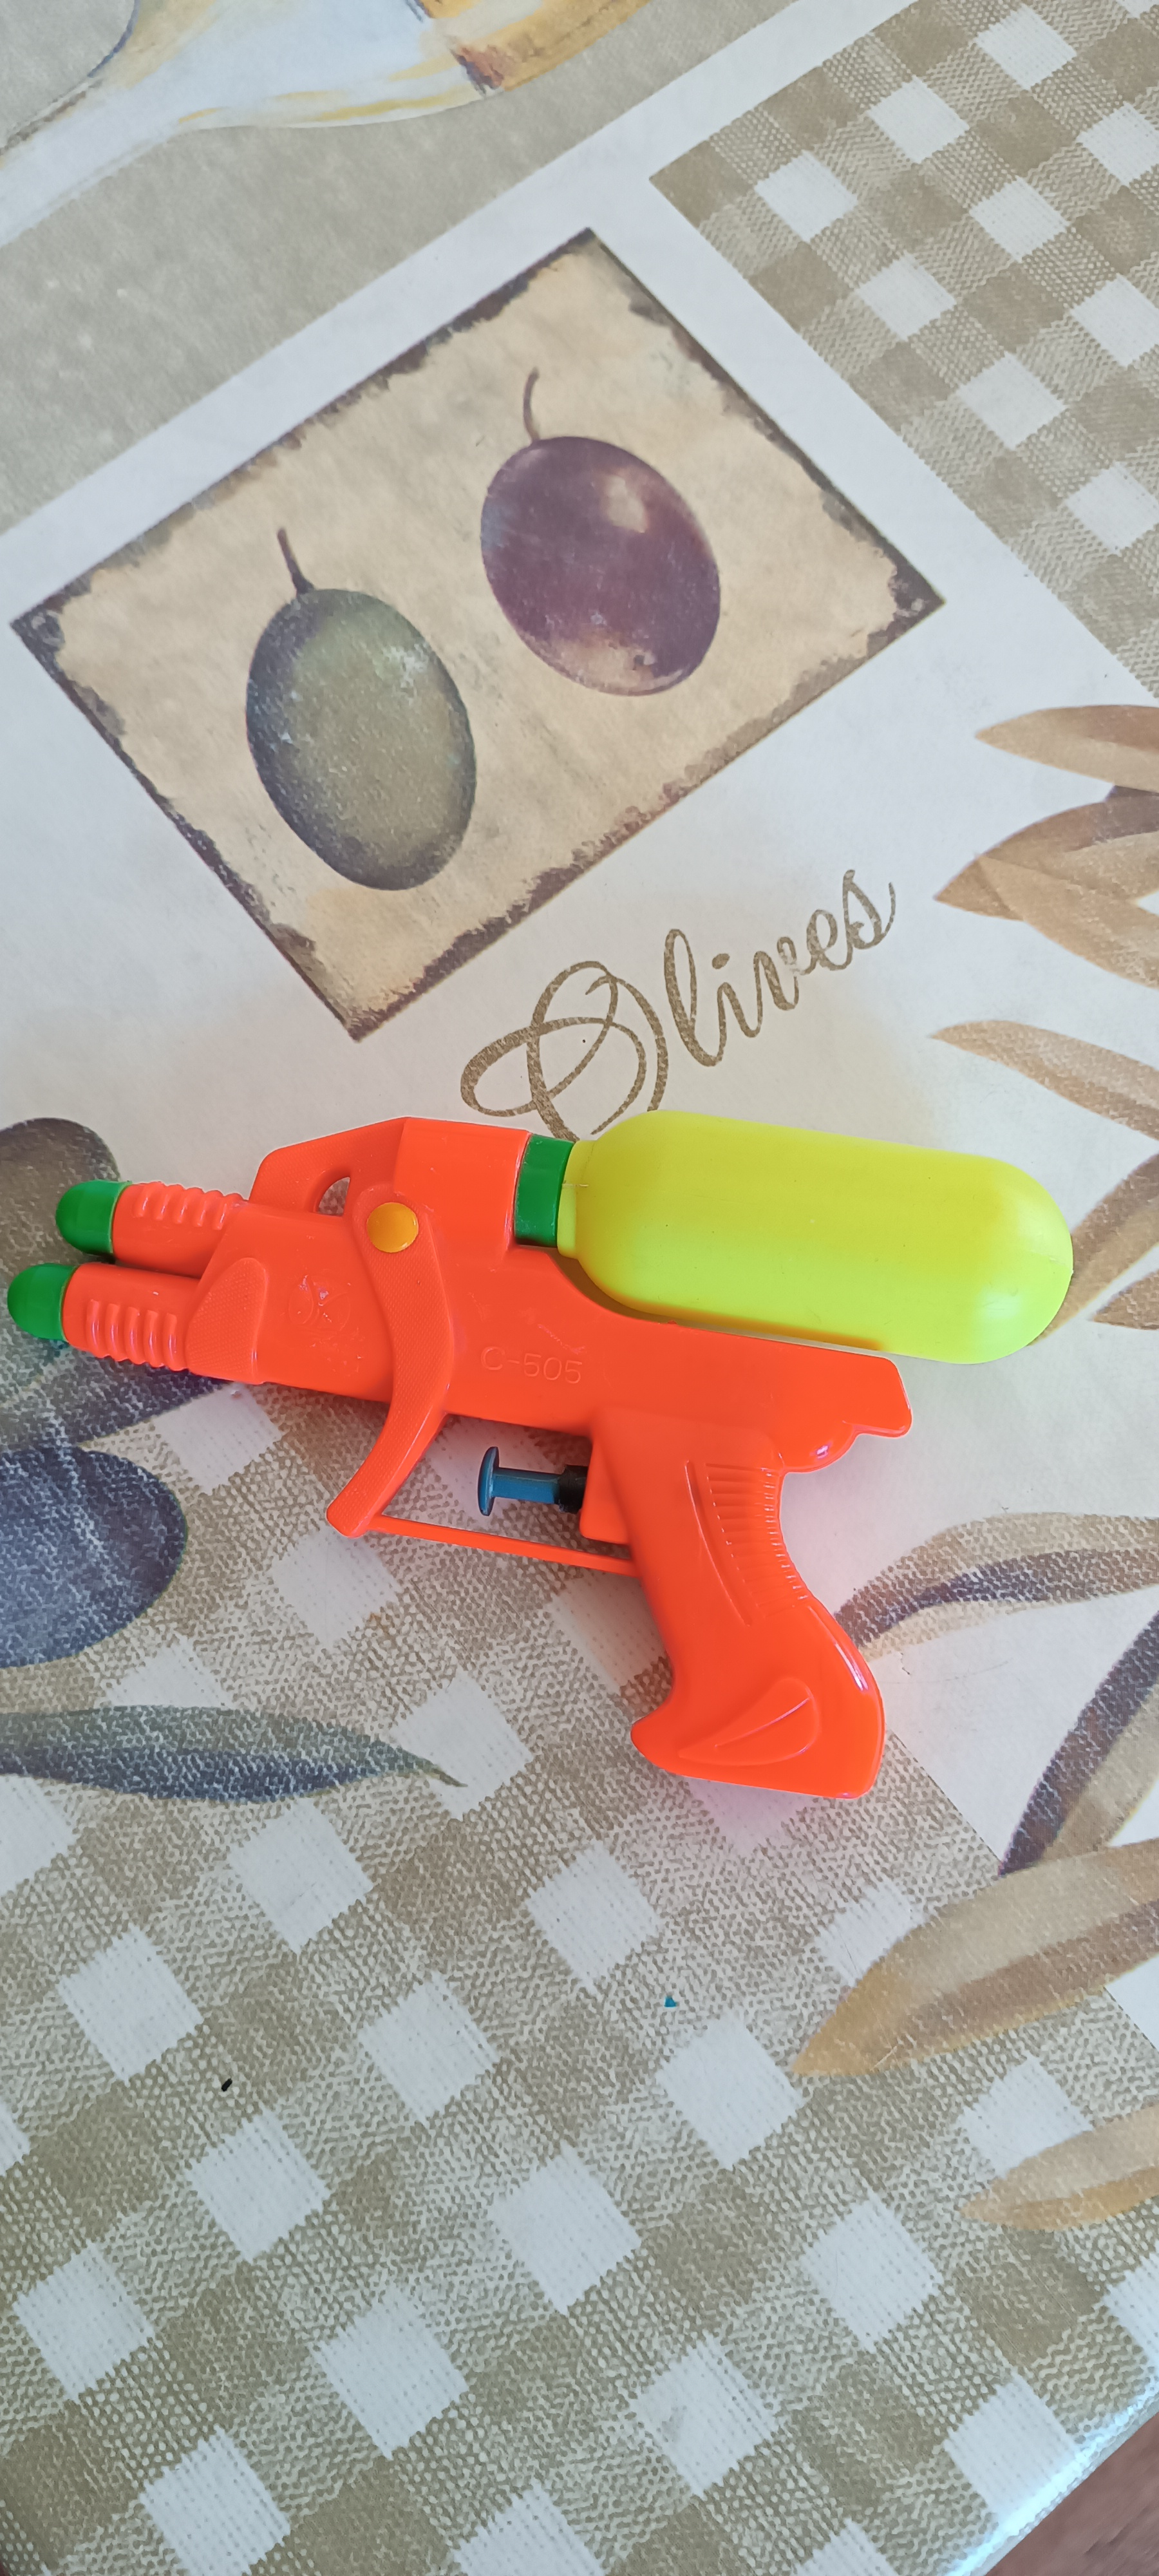Water Gun: (8, 1107, 1077, 1799)
